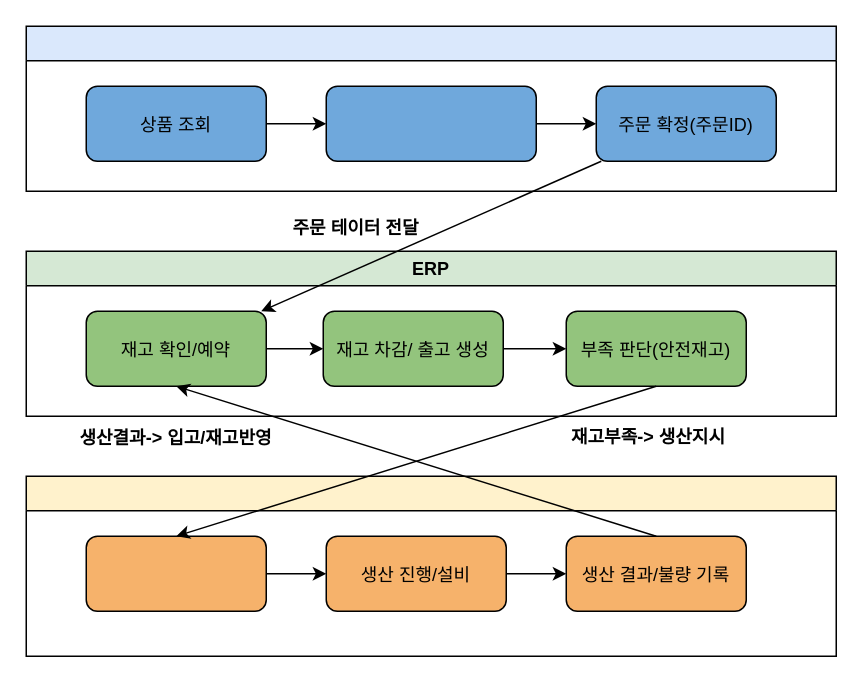
This 863x683 diagram has some shape labels left out. The box of each missing label's shape, as (x1, y1, x2, y2) in pixels:
MES: (25, 475, 836, 656)
Shop (User): (25, 25, 836, 191)
작업 지시 생성: (85, 535, 266, 611)
주문 생성/결제: (325, 85, 536, 161)
